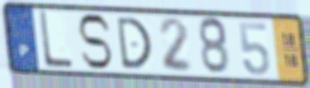2: (158, 16, 195, 76)
5: (236, 20, 272, 77)
8: (196, 16, 231, 78)
D: (114, 16, 154, 71)
L: (37, 9, 75, 71)
S: (75, 12, 114, 72)
